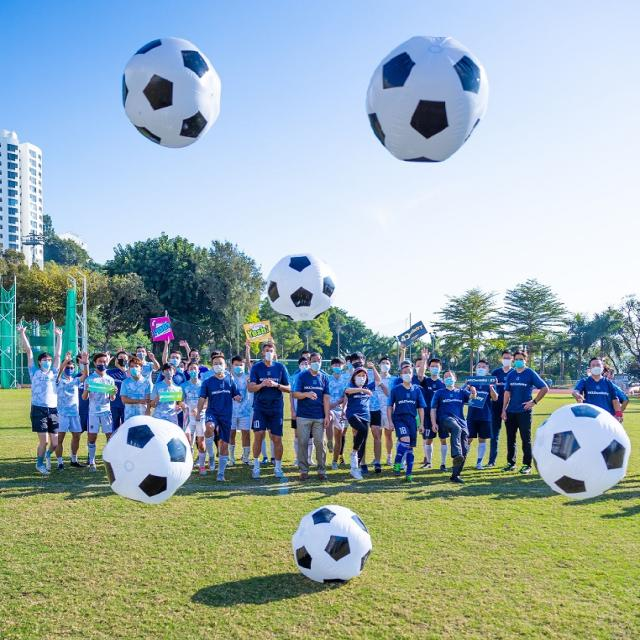ball: (365, 34, 490, 167), (119, 34, 222, 148), (525, 399, 632, 500), (105, 412, 193, 506), (296, 504, 371, 585), (268, 251, 335, 319)
